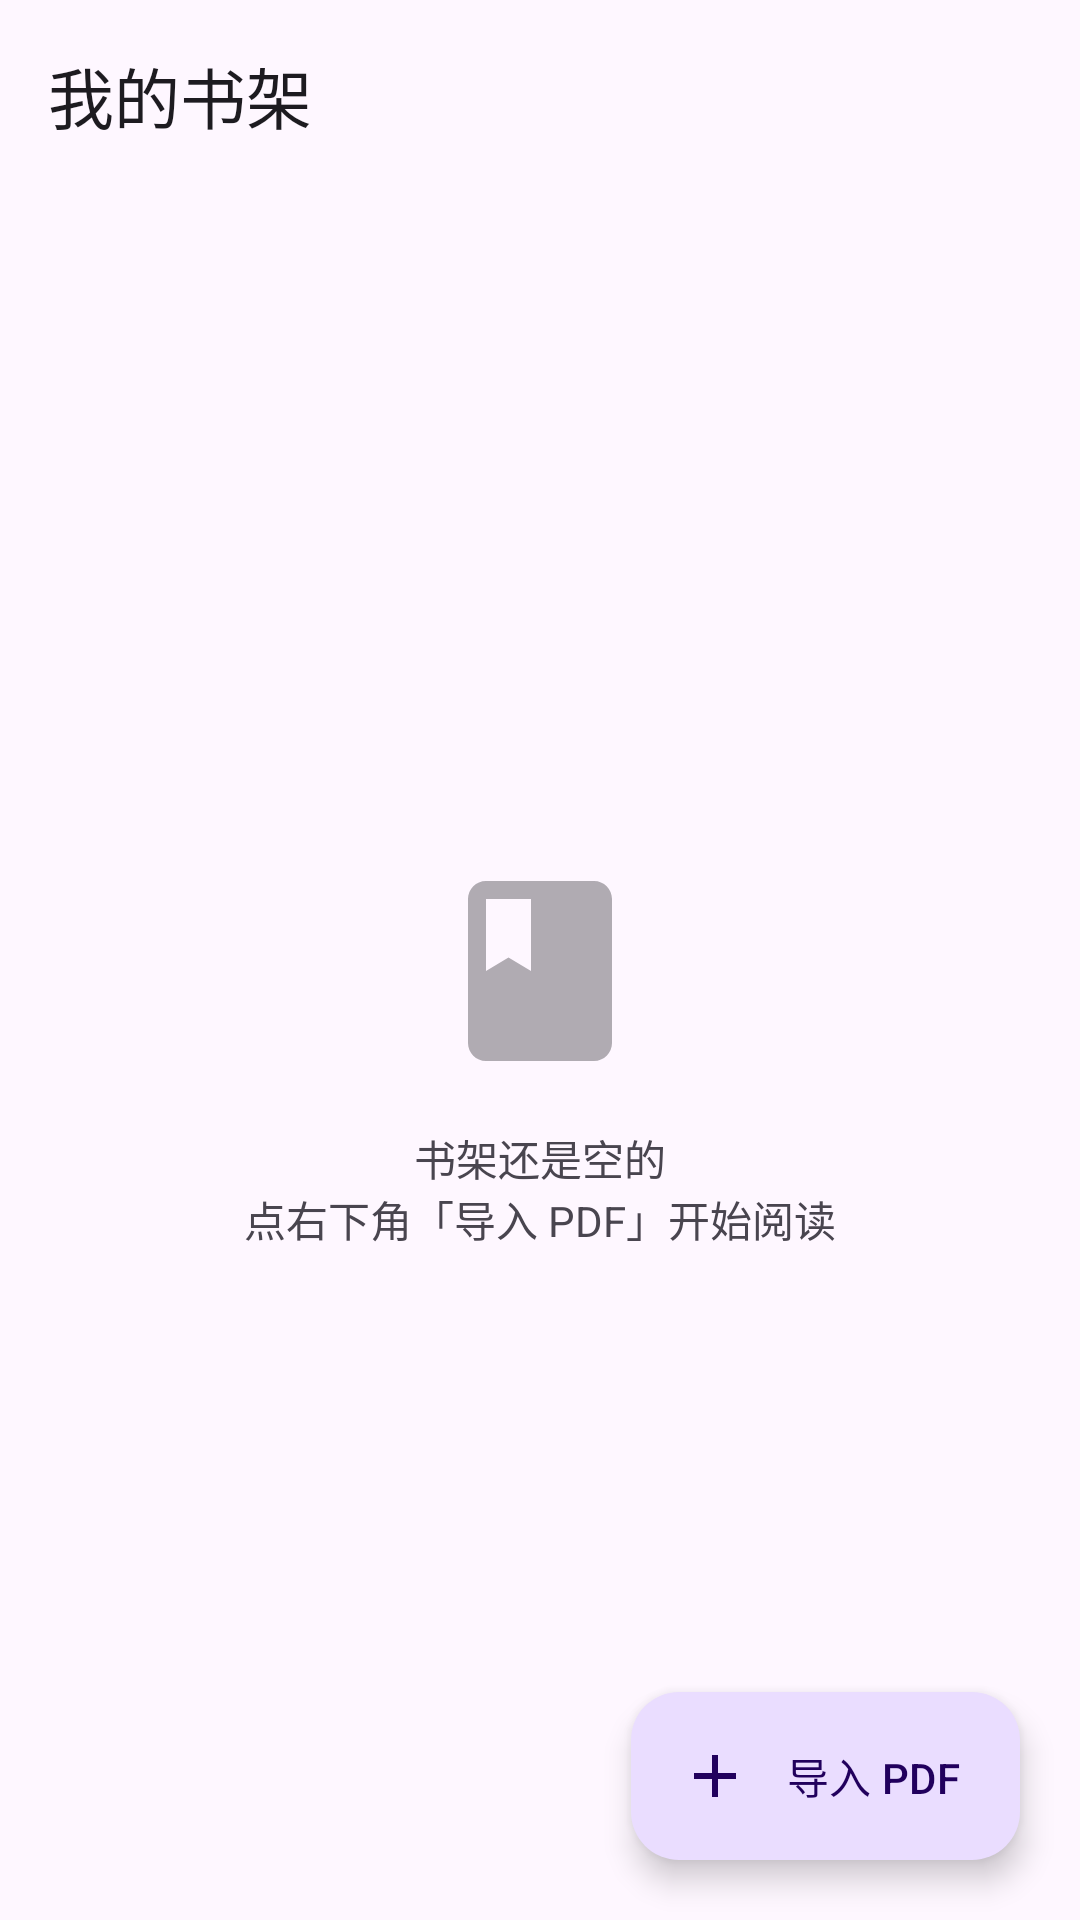

Screen size 1080 × 1920. Icon name, then its box in pixels as (x1, y1, x2, y2):
book: (468, 881, 612, 1061)
